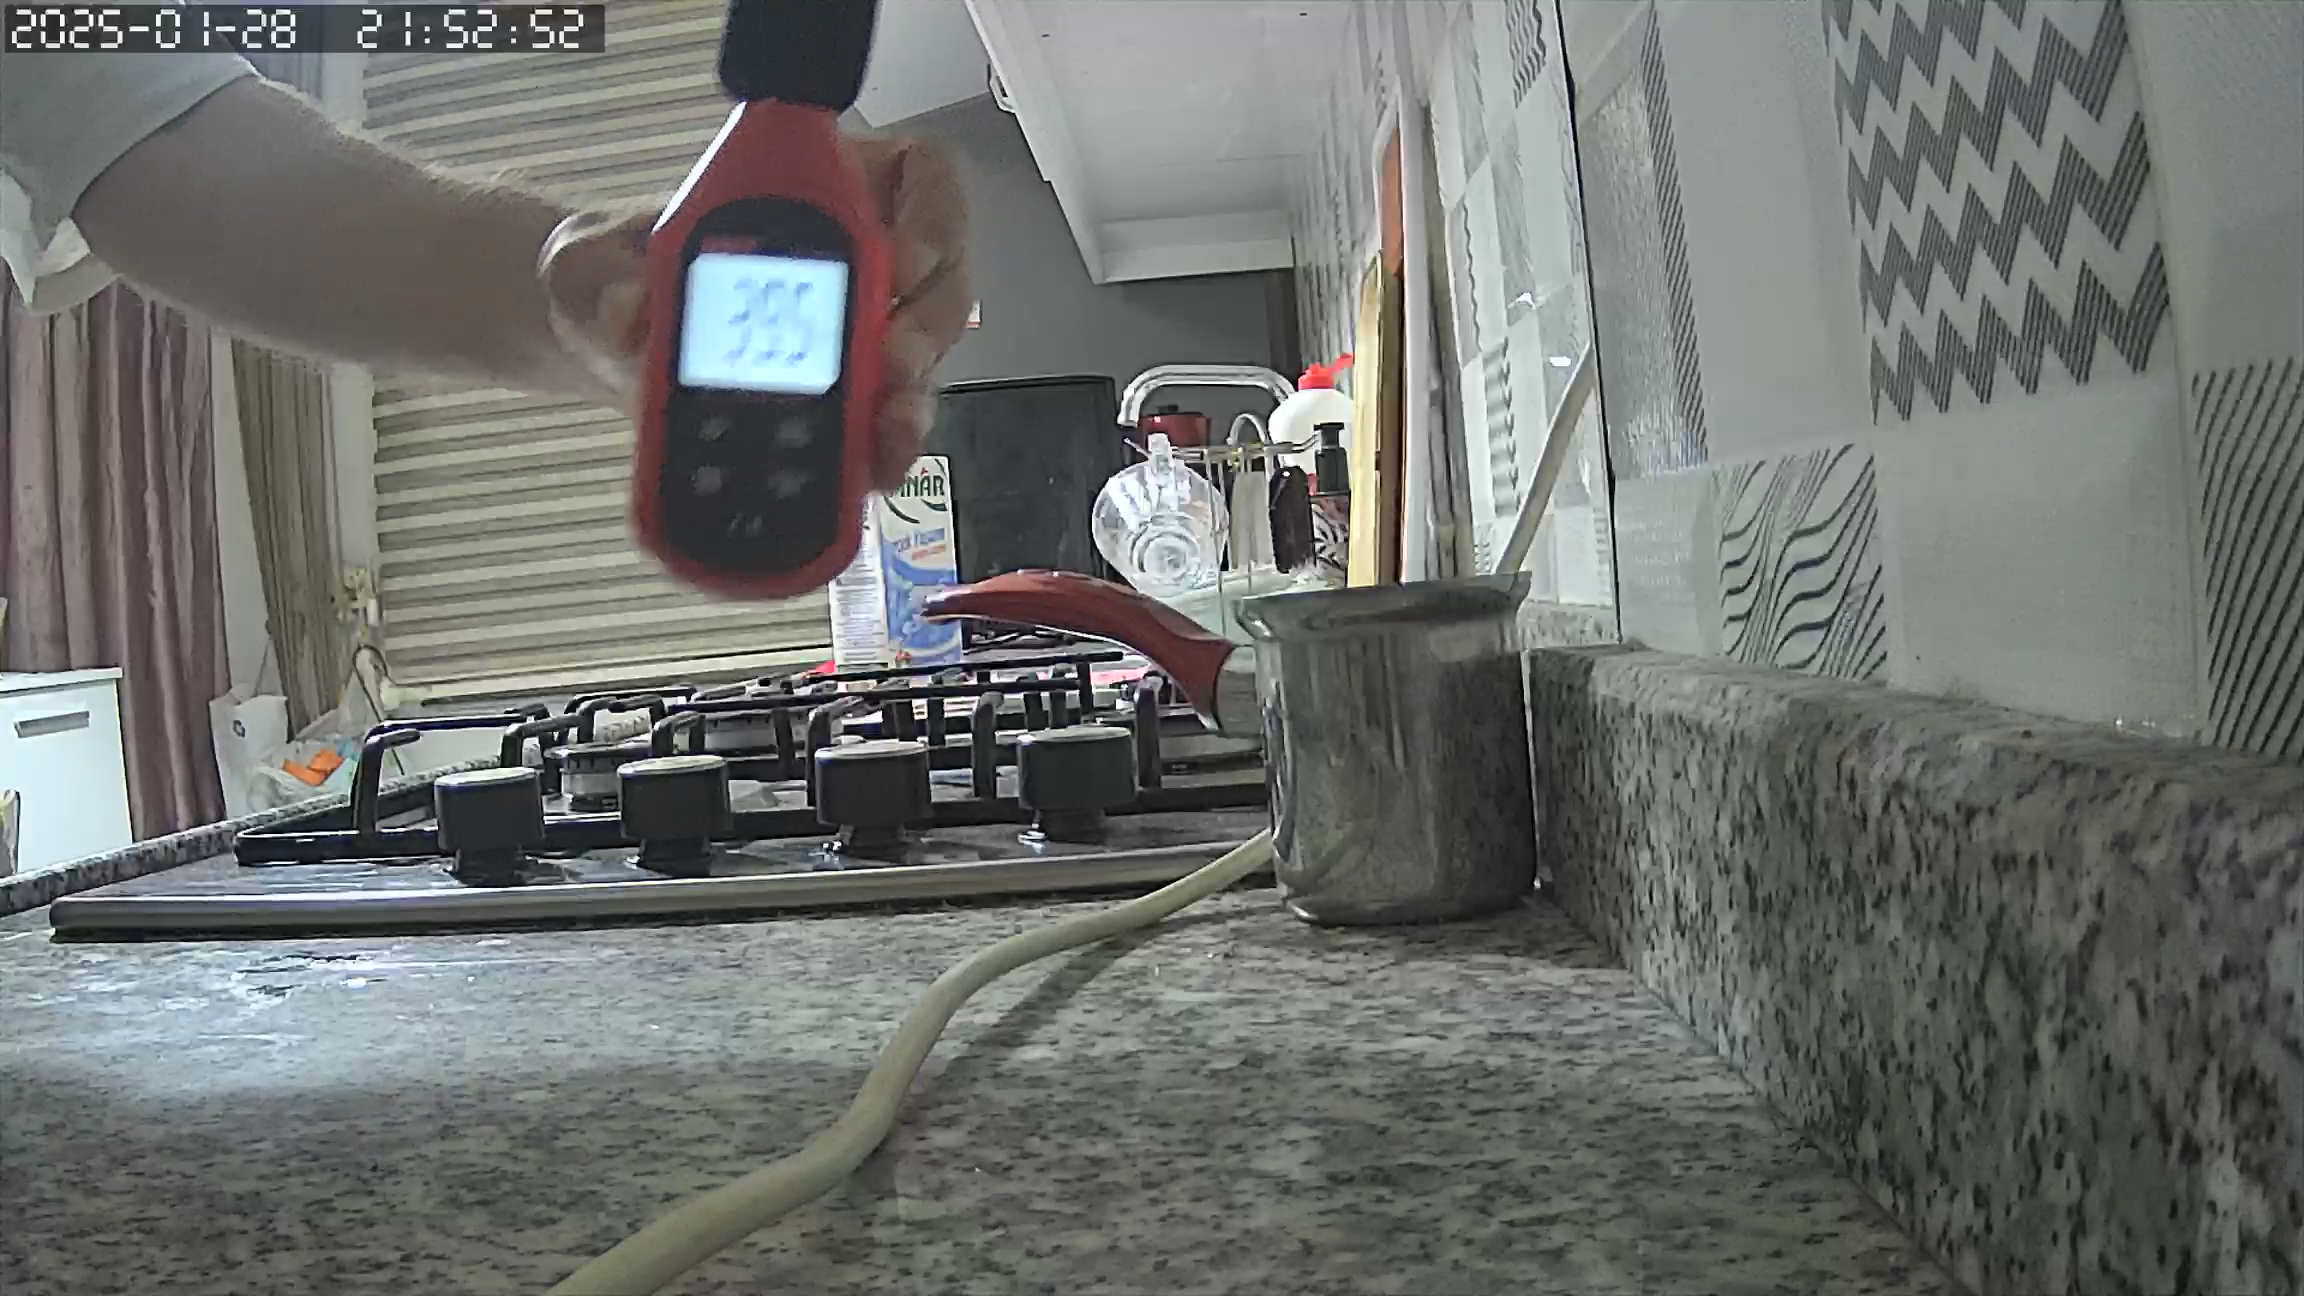screen: (677, 252, 850, 397)
